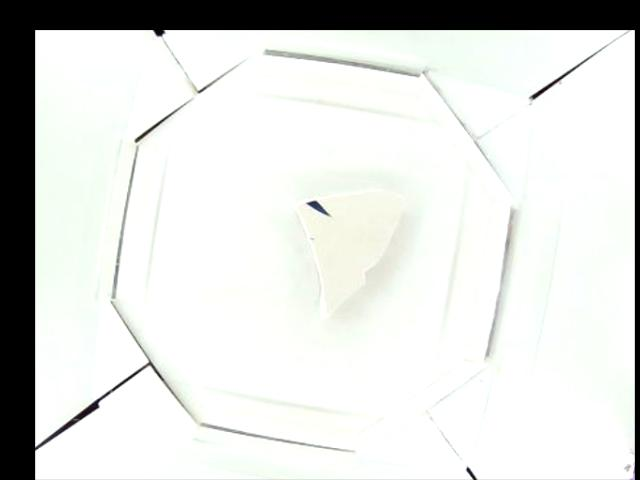China: (296, 187, 409, 315)
